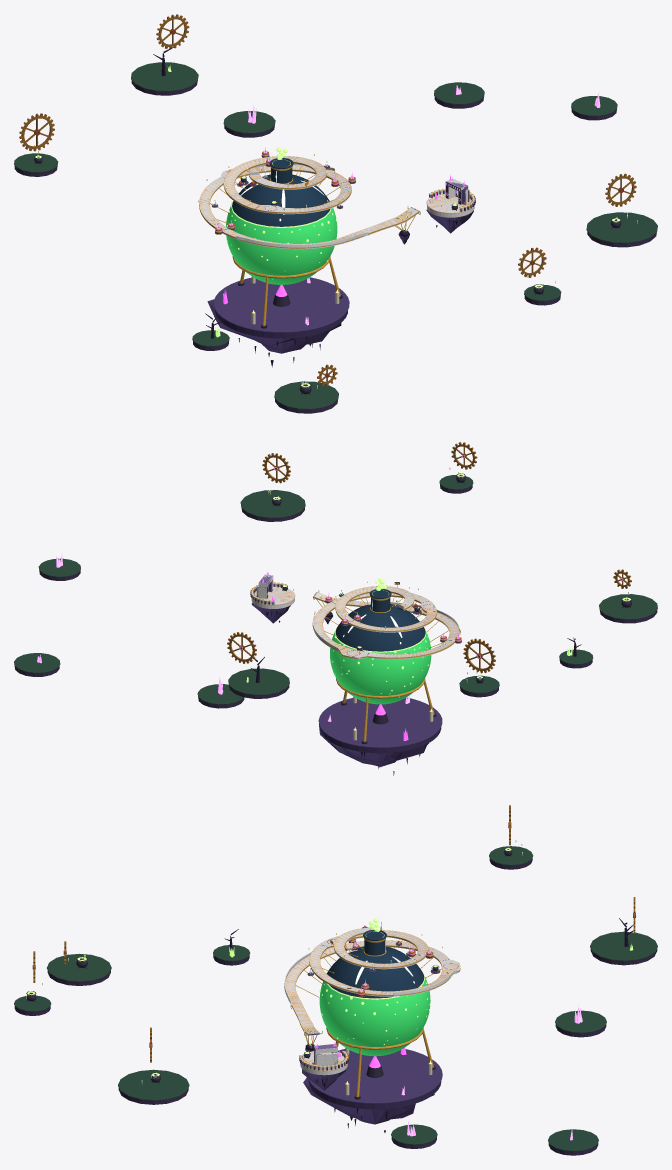
3 renders of one model, top to bottom at view 1: azimuth 30°, elevation 25°; view 2: azimuth 150°, elevation 25°; view 3: azimuth 270°, elevation 25°, orthographic. The views are drawn at different scales.
Parts seen in each view (by area): view 1: V_grass_dark, V_stone_dark, V_potion, C_0, V_glass_dark, V_brass, V_walk, V_rock, V_dirt, V_walk_b, V_iron, V_brass.004 (+1 smaller); view 2: V_grass_dark, V_stone_dark, V_potion, V_glass_dark, C_0, V_walk, V_brass, V_rock, V_dirt, V_iron, V_walk_b, V_brass.004; view 3: V_grass_dark, V_potion, V_stone_dark, V_glass_dark, C_0, V_brass, V_rock, V_walk, V_dirt, V_walk_b, V_iron.
Boxes of the visible parts, left/top/right/bottom form: V_grass_dark: left=14, top=62, right=657, bottom=409; V_stone_dark: left=212, top=155, right=475, bottom=332; V_potion: left=226, top=205, right=337, bottom=284; C_0: left=199, top=156, right=419, bottom=249; V_glass_dark: left=232, top=158, right=330, bottom=226; V_brass: left=199, top=153, right=475, bottom=325; V_walk: left=199, top=156, right=474, bottom=244; V_rock: left=207, top=209, right=473, bottom=353; V_dirt: left=14, top=80, right=656, bottom=413; V_walk_b: left=199, top=156, right=412, bottom=244; V_iron: left=34, top=155, right=621, bottom=394; V_brass.004: left=19, top=113, right=54, bottom=151; V_grass_dark: left=14, top=475, right=657, bottom=704; V_stone_dark: left=250, top=580, right=461, bottom=747; V_potion: left=330, top=632, right=431, bottom=704; V_glass_dark: left=335, top=589, right=425, bottom=651; C_0: left=313, top=586, right=459, bottom=659; V_walk: left=252, top=586, right=458, bottom=657; V_brass: left=250, top=582, right=461, bottom=741; V_rock: left=251, top=603, right=441, bottom=766; V_dirt: left=14, top=485, right=657, bottom=708; V_iron: left=272, top=473, right=631, bottom=744; V_walk_b: left=313, top=586, right=457, bottom=657; V_brass.004: left=463, top=638, right=495, bottom=673; V_grass_dark: left=14, top=846, right=657, bottom=1151; V_potion: left=319, top=977, right=430, bottom=1056; V_stone_dark: left=299, top=927, right=442, bottom=1103; V_glass_dark: left=327, top=930, right=424, bottom=998; C_0: left=285, top=928, right=460, bottom=1035; V_brass: left=285, top=927, right=460, bottom=1096; V_rock: left=302, top=1048, right=441, bottom=1124; V_walk: left=285, top=929, right=459, bottom=1071; V_dirt: left=14, top=858, right=657, bottom=1155; V_walk_b: left=286, top=928, right=448, bottom=1032; V_iron: left=26, top=848, right=512, bottom=1099.
Bounding box in the file's own units: 159 × 66.06 × 163.
